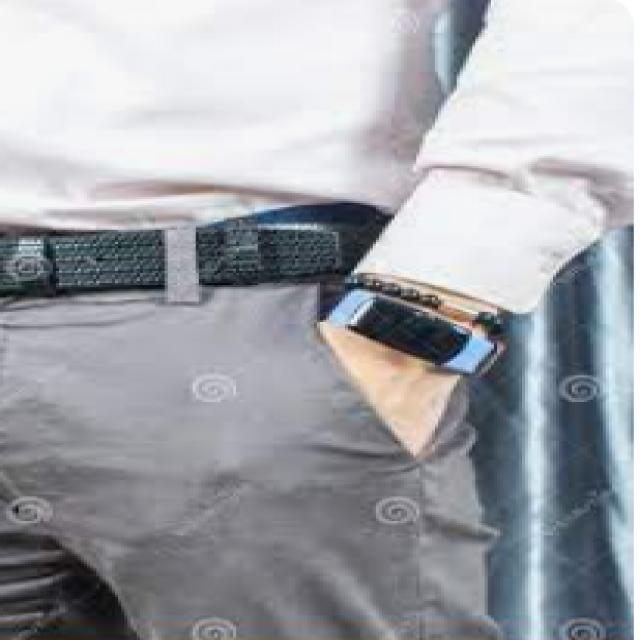Watch: (326, 288, 514, 384)
